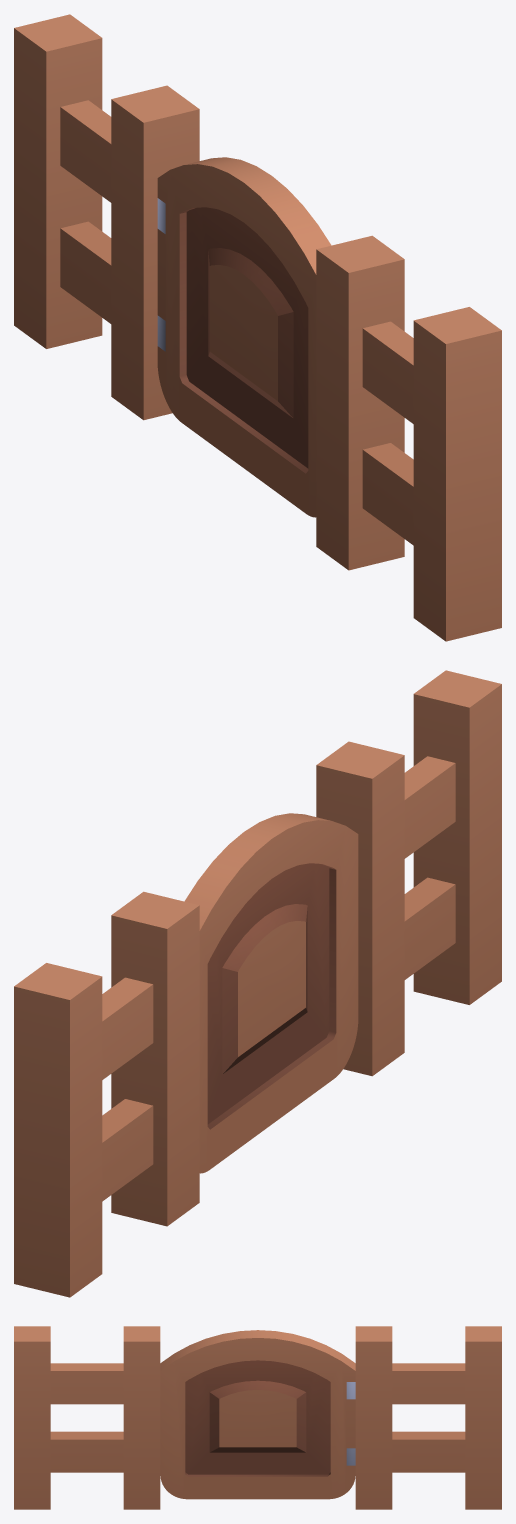
Rendered from town_fence_gate.glb.
3 views of the same model, one above another, from view 1: azimuth 30°, elevation 25°; view 2: azimuth 150°, elevation 25°; view 3: azimuth 270°, elevation 25° (orthographic). The views are drawn at different scales.
Parts seen in each view (by area): view 1: fence-gate, gate; view 2: fence-gate, gate; view 3: fence-gate, gate.
Part boxes in pixels (x1,y1,x2,y2): fence-gate: [14, 14, 501, 641]; gate: [157, 157, 331, 517]; fence-gate: [14, 670, 501, 1297]; gate: [184, 813, 358, 1173]; fence-gate: [14, 1326, 501, 1509]; gate: [160, 1330, 355, 1499].
Size of the model in its own units: 0.195 by 0.988 by 2.6.
1 material, 1 textured.
